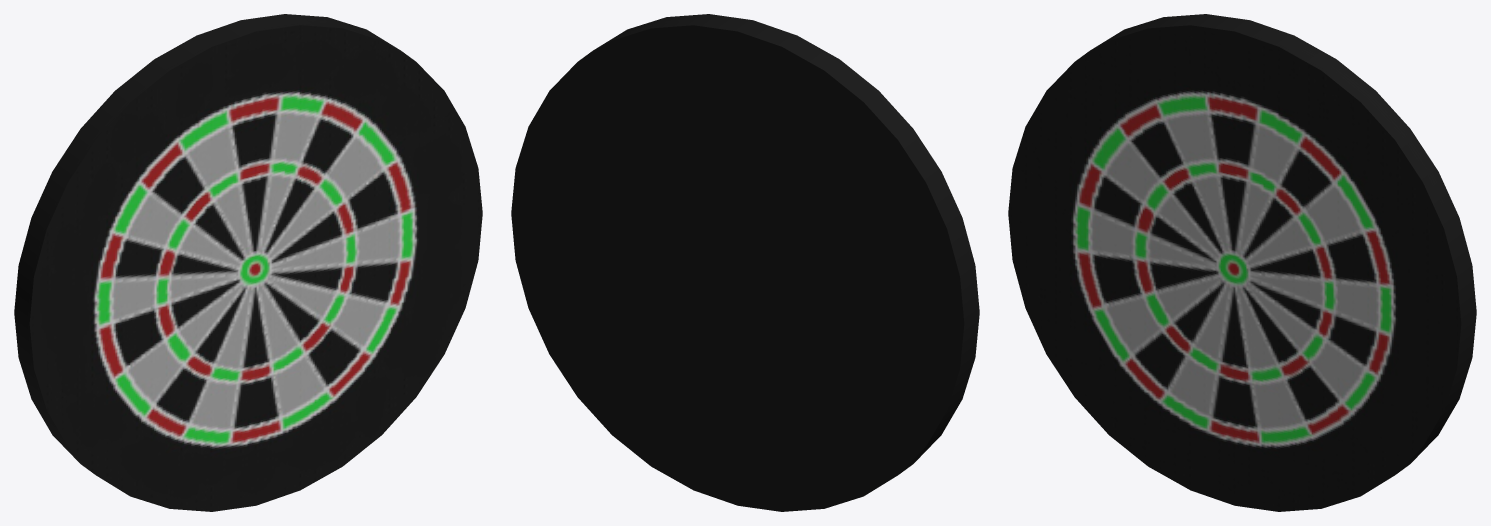
The model's file is dartboard.fbx.
The picture shows the model from 3 angles, left to right: view 1: azimuth 30°, elevation 25°; view 2: azimuth 150°, elevation 25°; view 3: azimuth 330°, elevation 25°; orthographic projection.
Parts seen in each view (by area): view 1: darboard_mesh; view 2: darboard_mesh; view 3: darboard_mesh.
Boxes of the visible parts, x1,y1,x2,y2 form: darboard_mesh: [14, 14, 482, 511]; darboard_mesh: [511, 14, 979, 511]; darboard_mesh: [1008, 14, 1476, 511].
Bounding box in the file's own units: 44.38 × 44.38 × 2.62.
